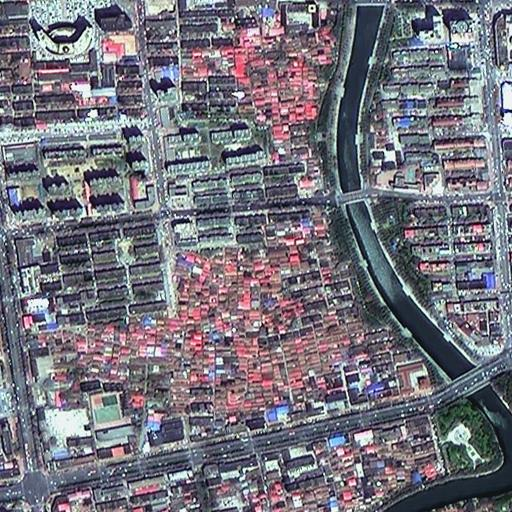school: (85, 388, 140, 462), (370, 160, 427, 194)
